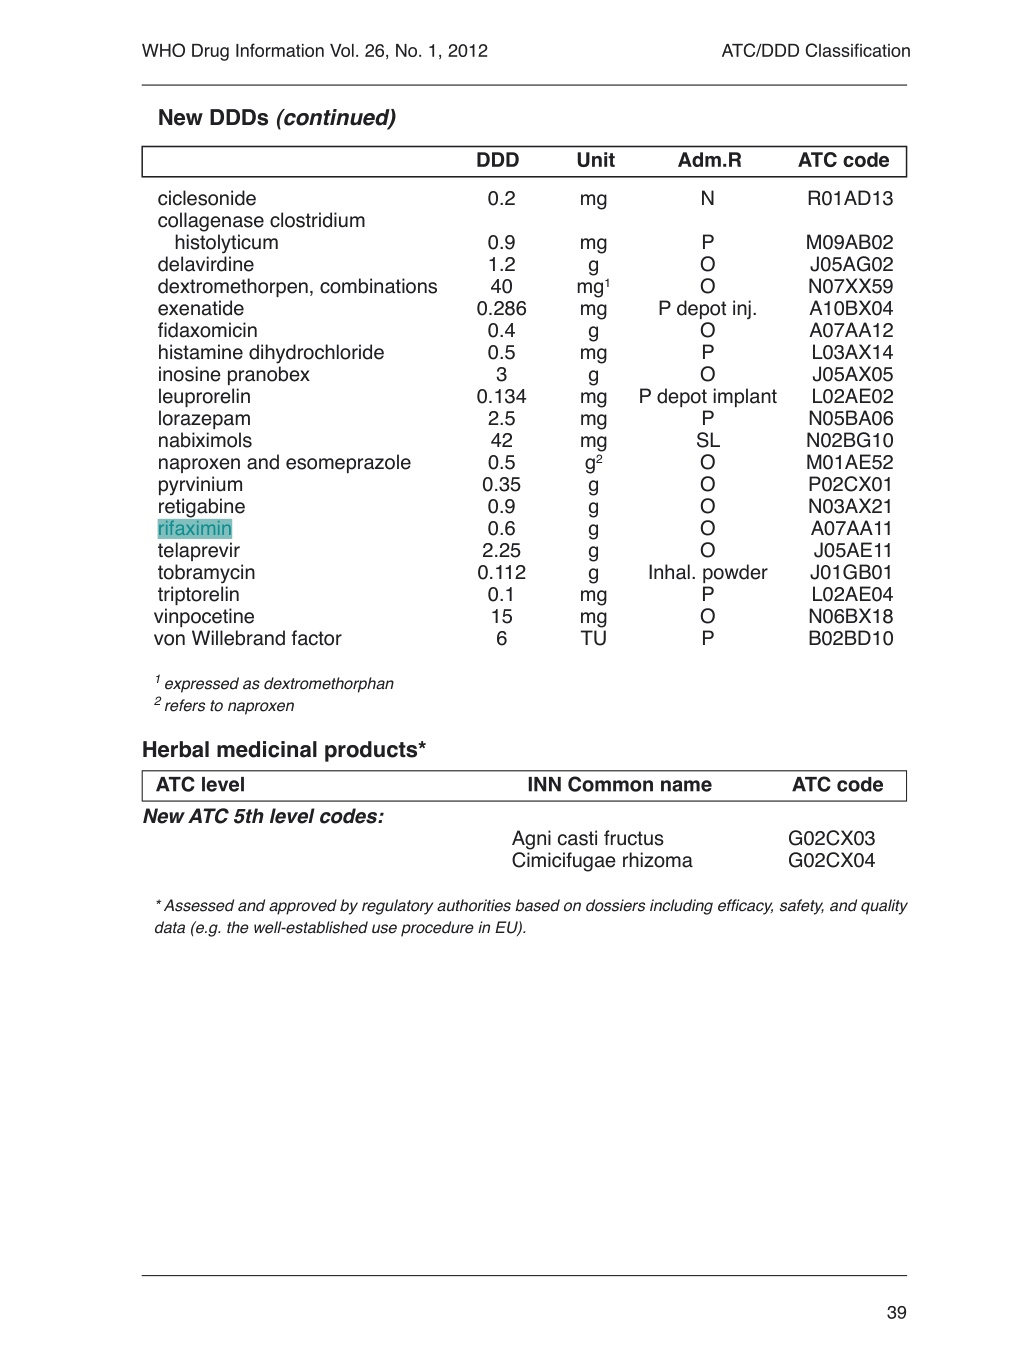partial_lined: (140, 143, 908, 653), (139, 768, 909, 877)
